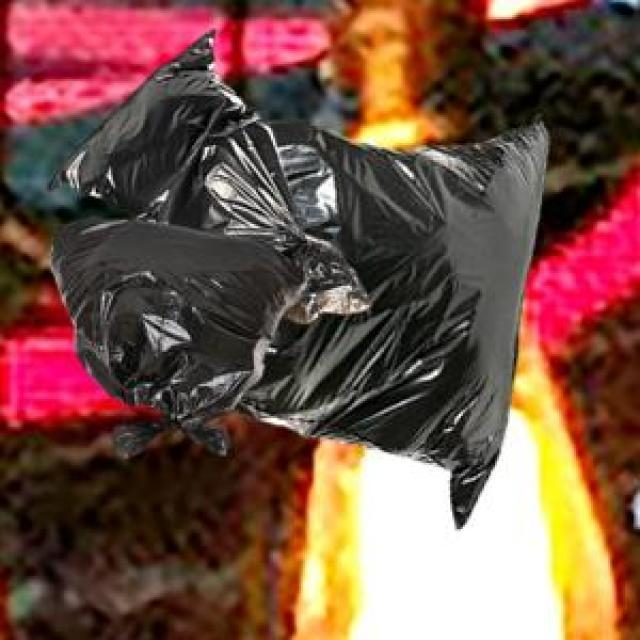Vinyl: (54, 35, 544, 524)
